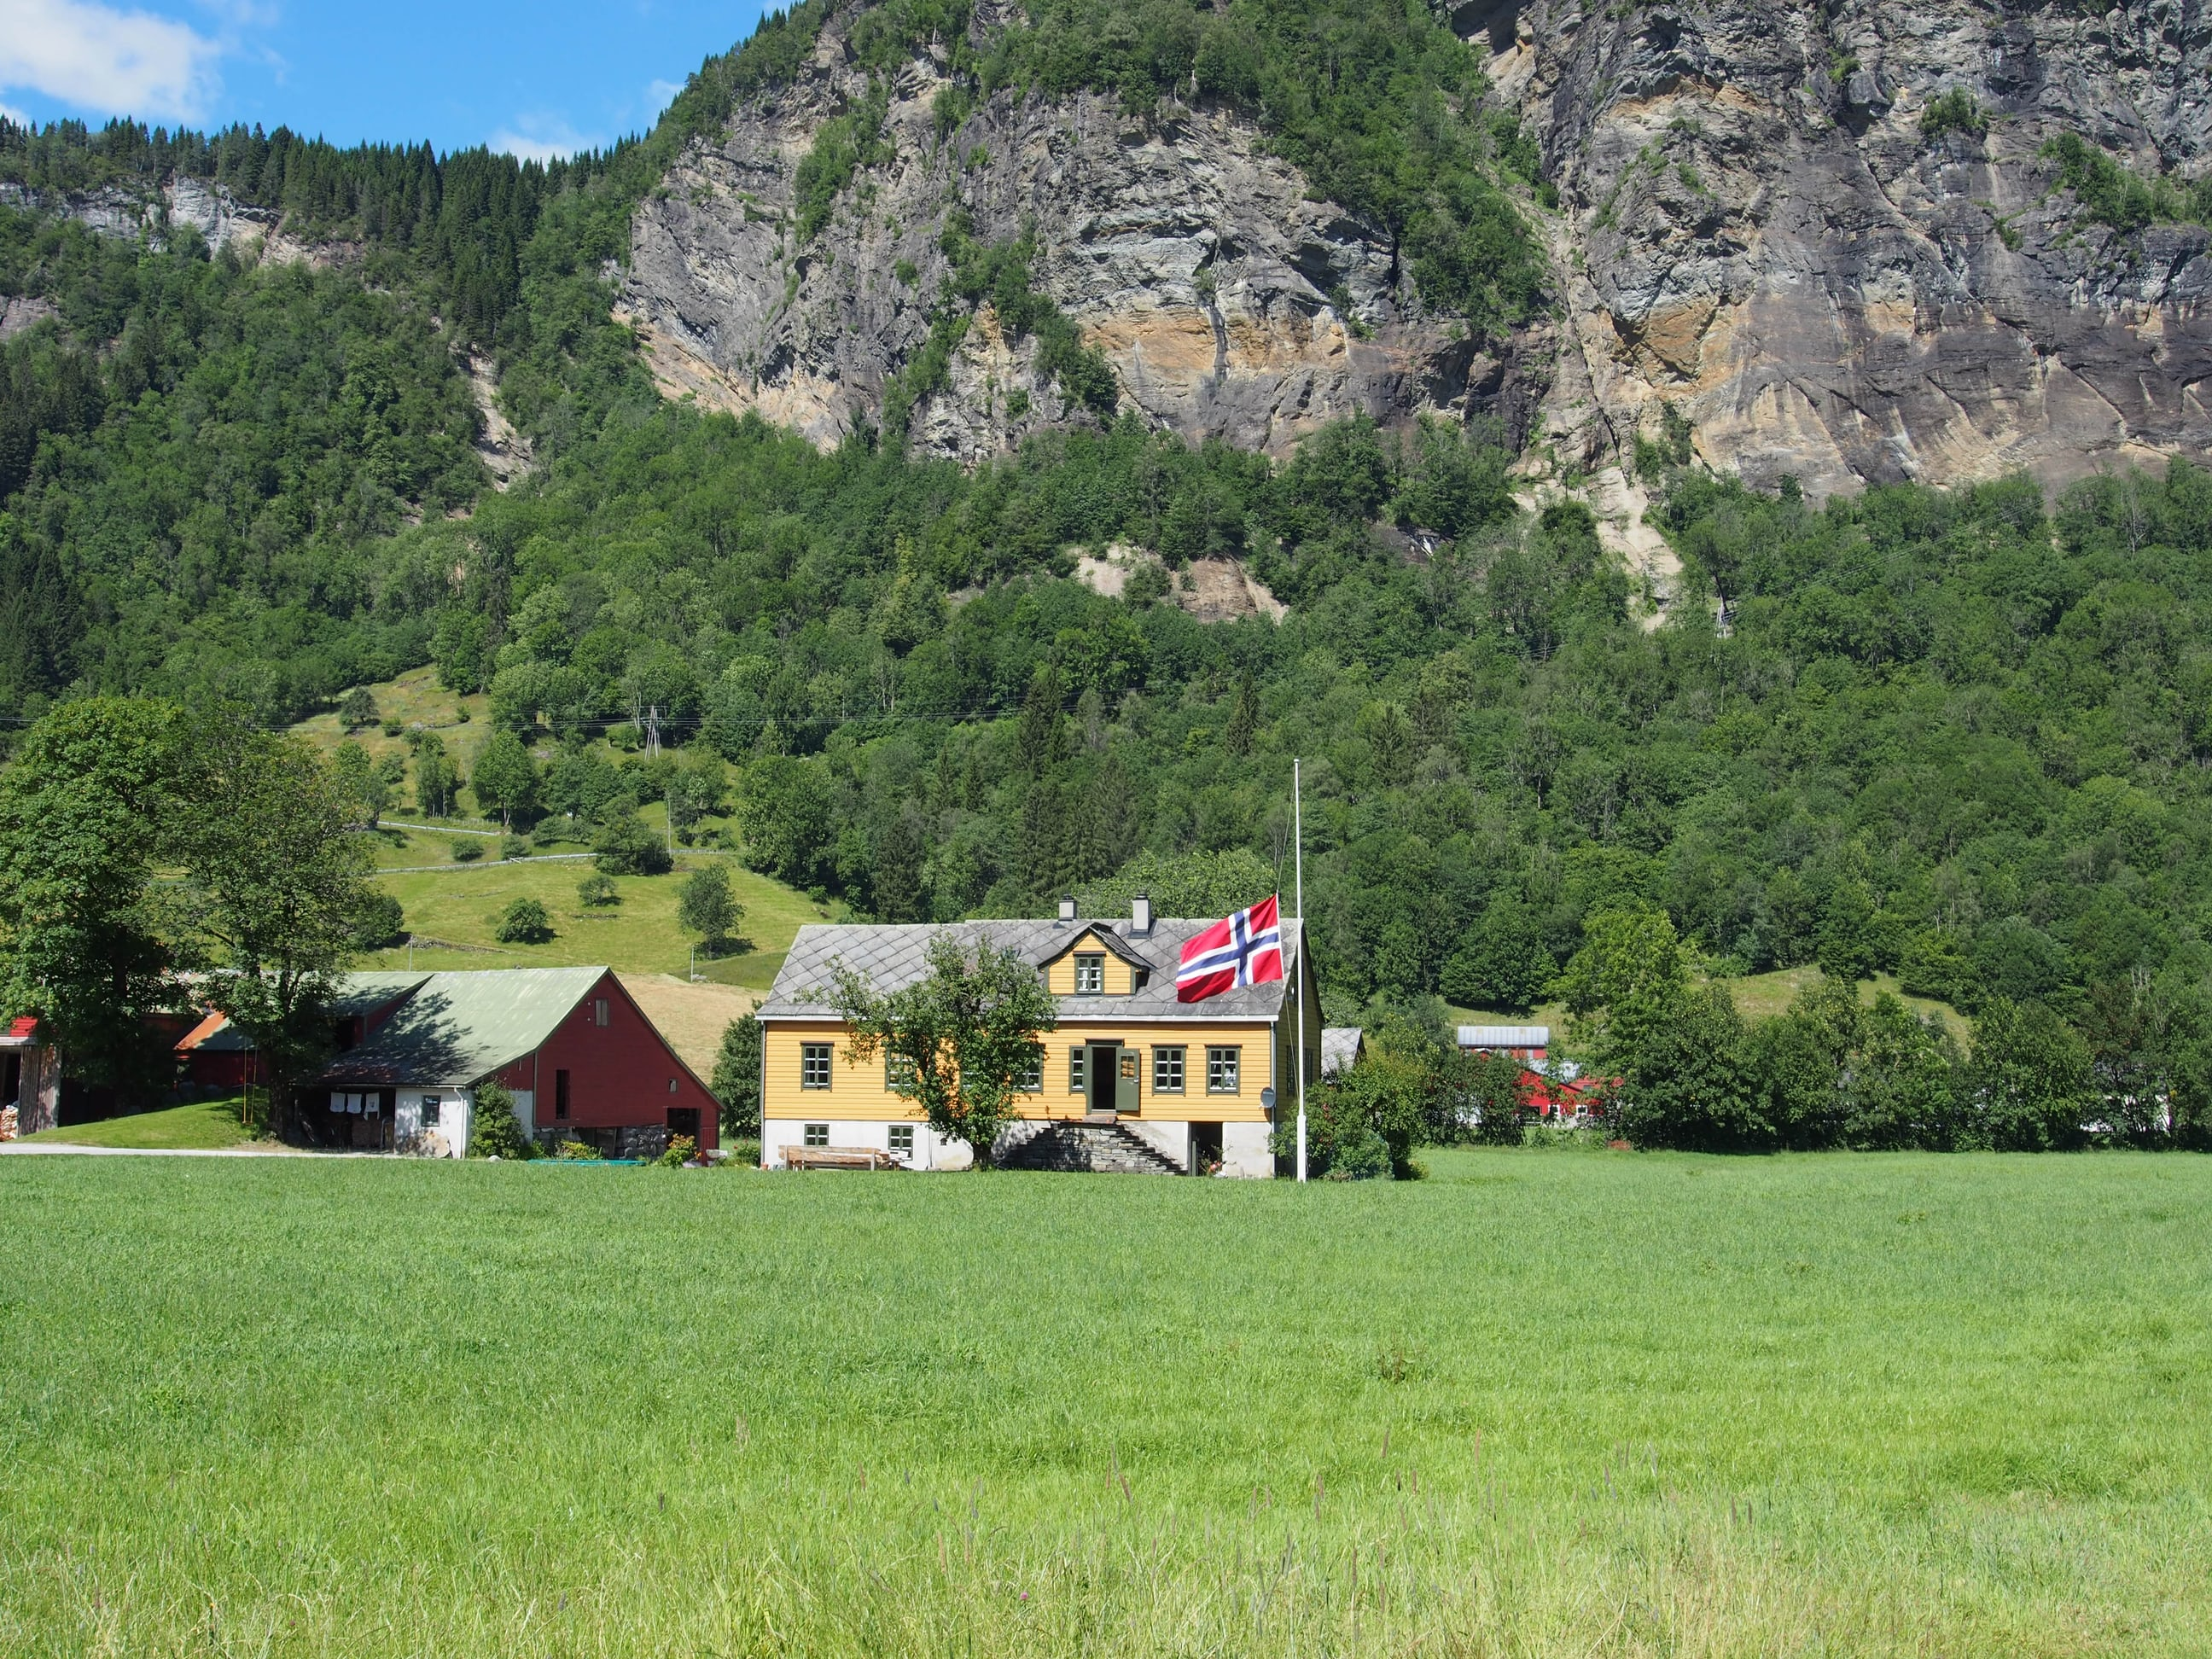Flag: (1172, 897, 1284, 997)
